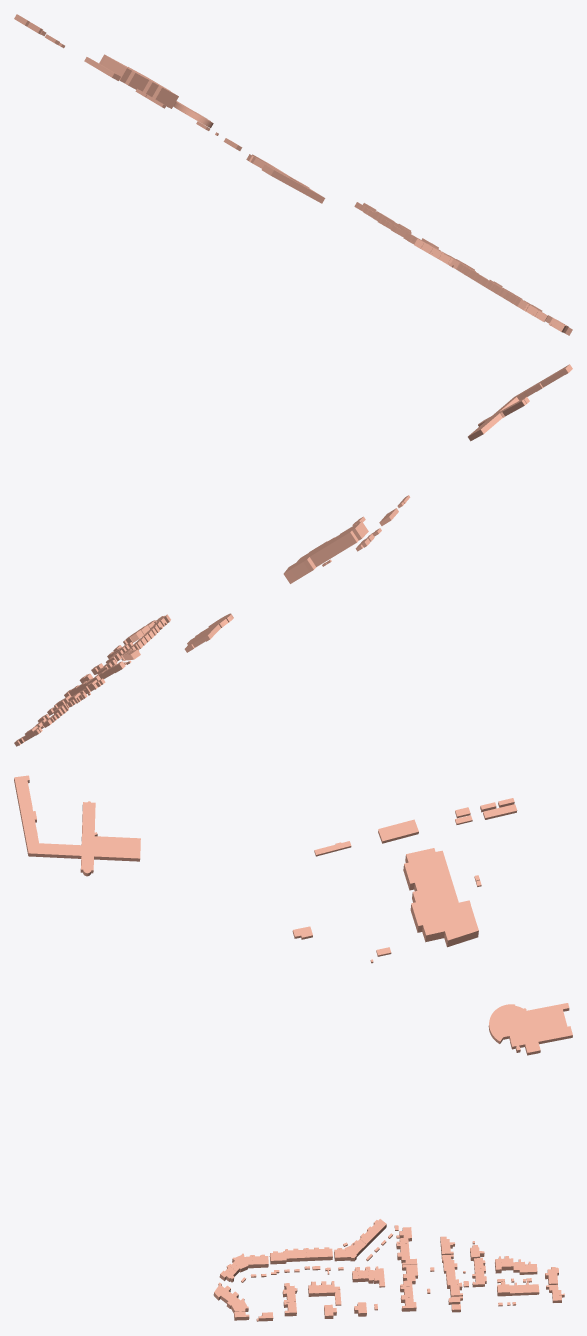
3 views of the same model, one above another, from view 1: azimuth 30°, elevation 25°; view 2: azimuth 150°, elevation 25°; view 3: azimuth 270°, elevation 25° (orthographic). The views are drawn at different scales.
Size of the model in its own units: 509 by 402 by 586.
